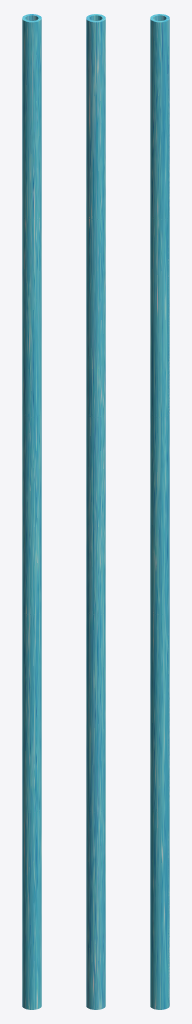
Rendered from lengshuiguan.gltf.
The picture shows the model from 3 angles, left to right: view 1: azimuth 30°, elevation 25°; view 2: azimuth 150°, elevation 25°; view 3: azimuth 330°, elevation 25°; orthographic projection.
Visible parts, largest first — view 1: Tube006; view 2: Tube006; view 3: Tube006.
Part boxes in pixels (x1,y1,x2,y2): Tube006: (22,14,41,1009); Tube006: (86,14,105,1009); Tube006: (150,14,169,1009).
Size of the model in its own units: 6 by 330 by 5.94.
1 material, 1 textured.
